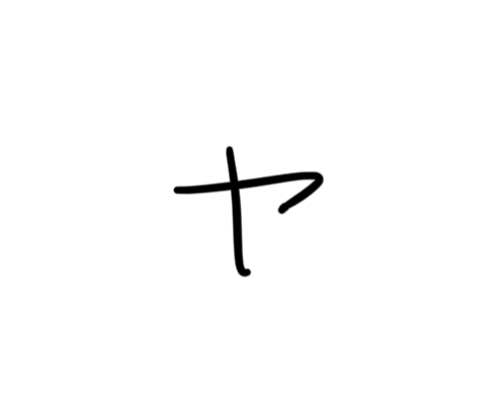ya: (164, 135, 333, 283)
